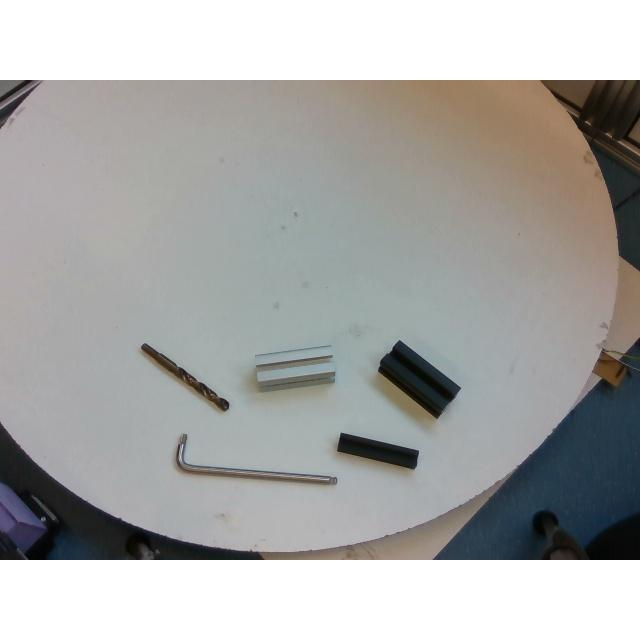AllenKey: (176, 432, 337, 483)
Drill: (141, 342, 229, 410)
F20_20_B: (338, 432, 418, 468)
S40_40_B: (378, 341, 460, 417)
S40_40_G: (255, 346, 335, 390)
